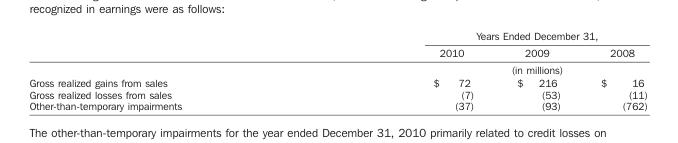table: (28, 29, 646, 111)
table column: (28, 29, 306, 111), (306, 29, 494, 111), (494, 29, 579, 111), (579, 29, 646, 111)
table column header: (28, 29, 646, 75)
table row: (28, 44, 646, 60), (28, 29, 646, 44), (28, 60, 646, 75), (28, 75, 646, 88), (28, 99, 646, 111), (28, 88, 646, 99)
table spanning cell: (306, 29, 646, 44), (306, 60, 646, 75)
